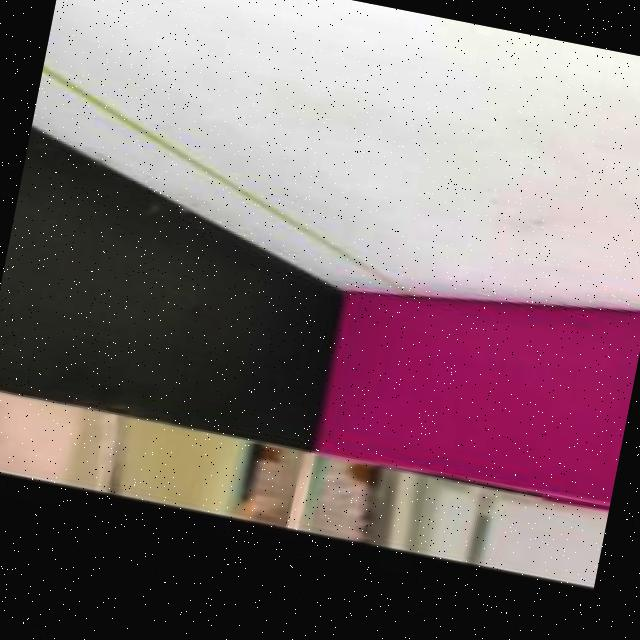xparking: (317, 267, 640, 508)
